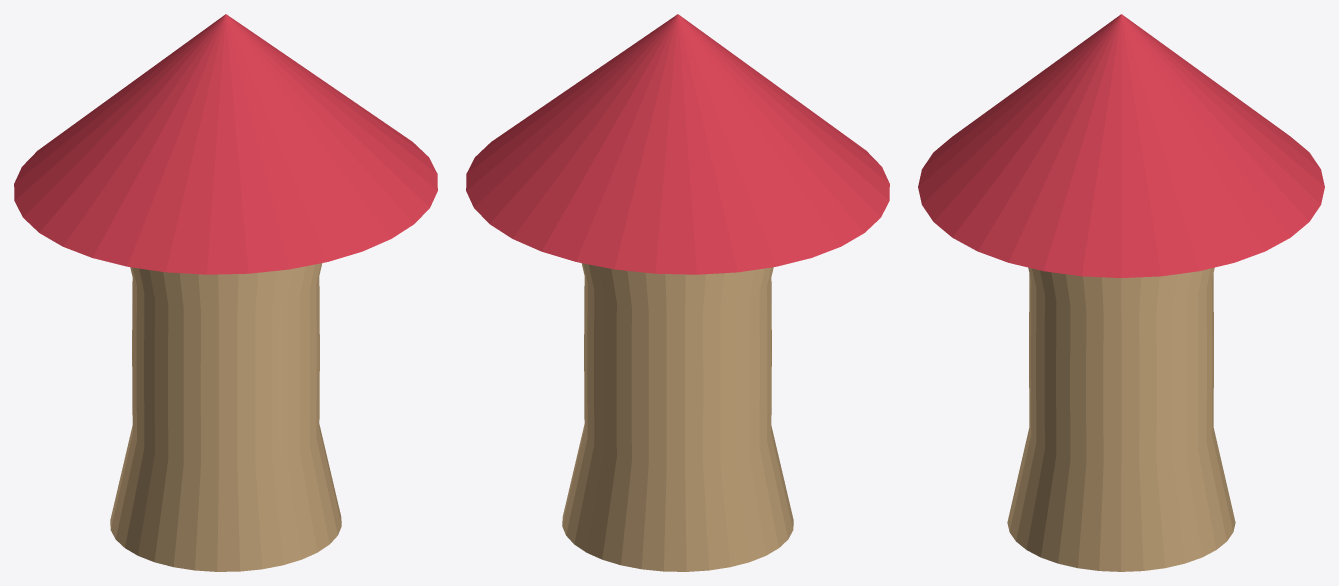
Rendered from Tower MiniT.fbx.
3 views of the same model, side by side, from view 1: azimuth 30°, elevation 25°; view 2: azimuth 150°, elevation 25°; view 3: azimuth 270°, elevation 25° (orthographic).
Parts seen in each view (by area): view 1: Tower Mini; view 2: Tower Mini; view 3: Tower Mini.
Boxes of the visible parts, x1,y1,x2,y2 form: Tower Mini: [14, 14, 437, 571]; Tower Mini: [466, 14, 889, 571]; Tower Mini: [918, 14, 1324, 571].
Bounding box in the file's own units: 26.84 × 34.98 × 25.36.
